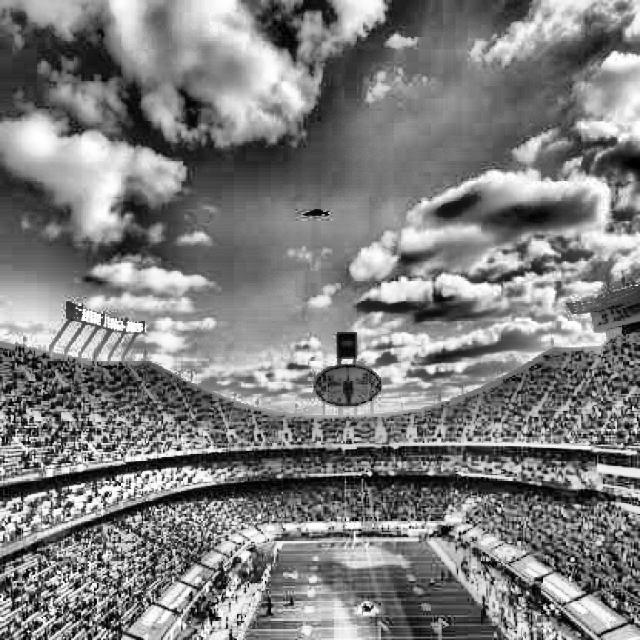B2: (304, 210, 328, 216)
